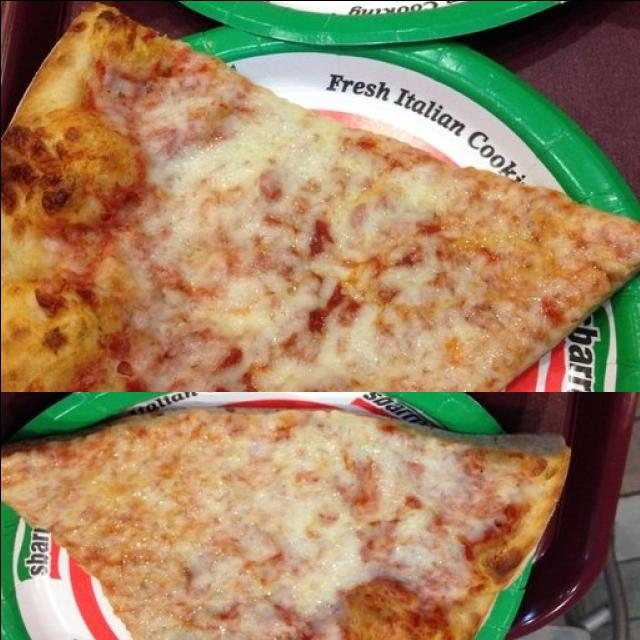pizza: (0, 0, 640, 391), (0, 407, 570, 640)
